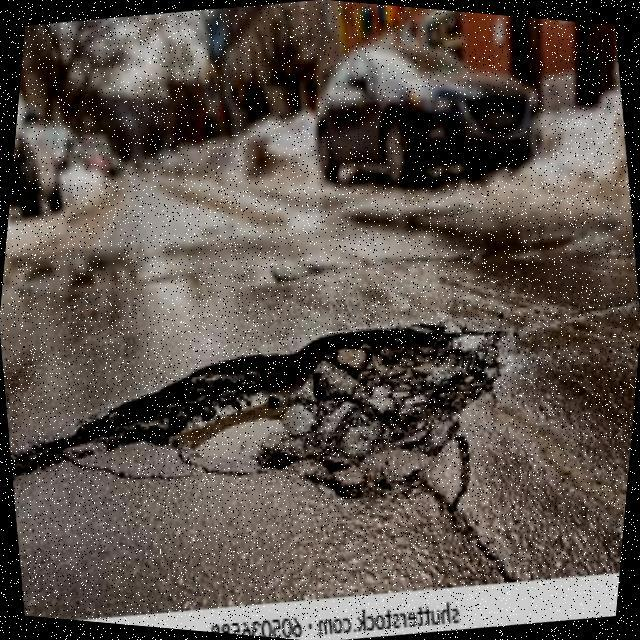Pothole: (4, 321, 506, 510)
